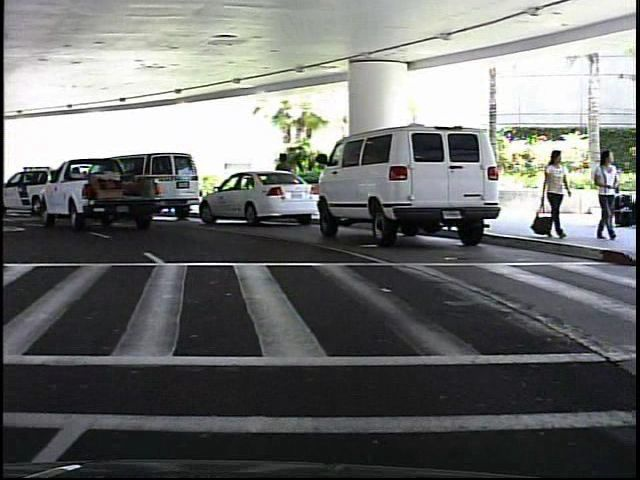person: (538, 145, 569, 239), (592, 146, 620, 242), (598, 155, 621, 230), (274, 149, 300, 213)
